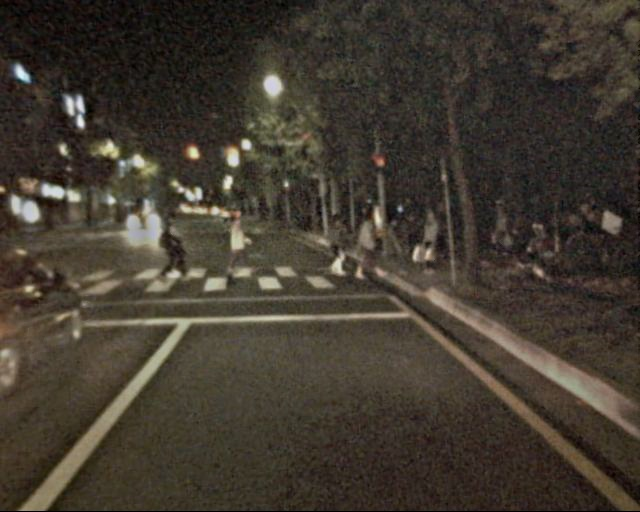person: (156, 209, 187, 285), (320, 209, 351, 285), (354, 210, 385, 285), (394, 210, 424, 282), (221, 211, 250, 281), (420, 208, 448, 277), (431, 199, 459, 267), (489, 200, 515, 263)
